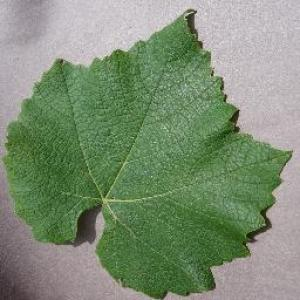Folha: (1, 7, 293, 299)
